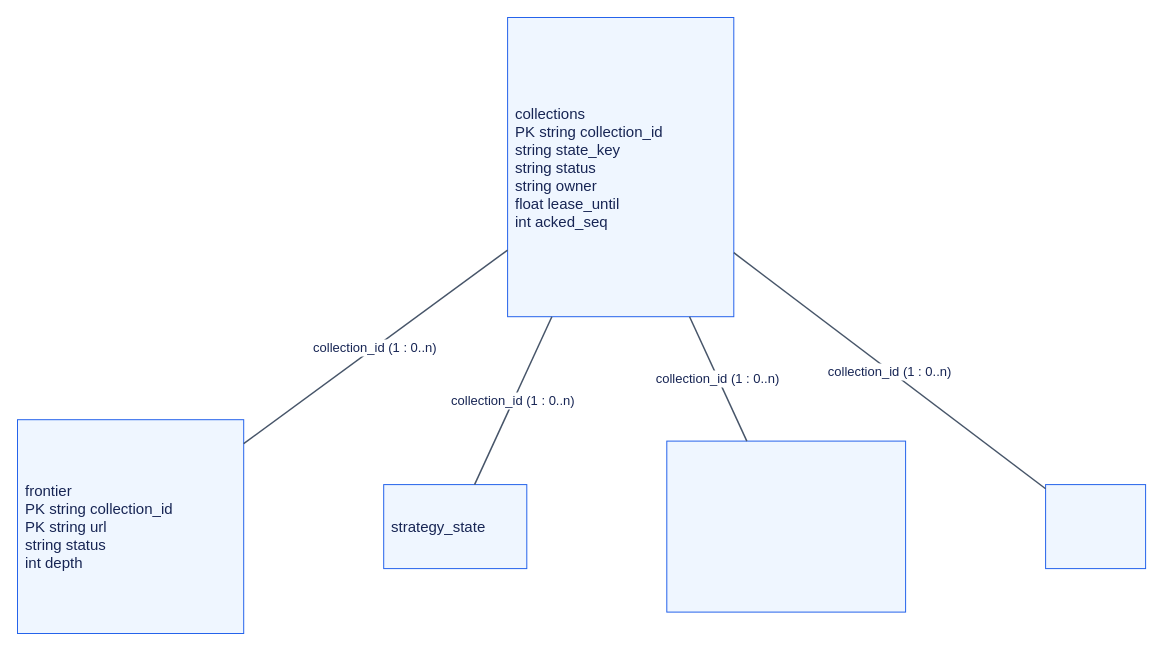
The diagram is 1164 pixels wide and 651 high, and some of its shapes have lost their labels. The shapes that lost their labels are listed below. From the top down, each one's centre as x and y in pixels, then its label:
At point 786,526: "materials PK string collection_id PK int seq string observation_id".
At point 1095,526: "errors".
